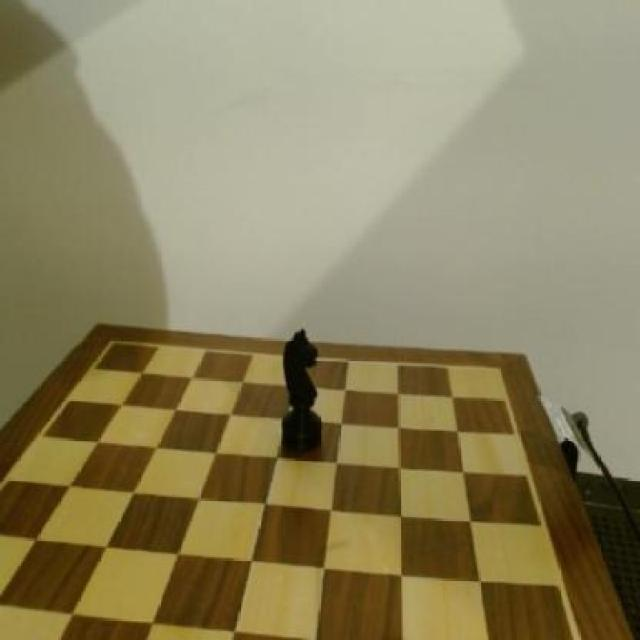black-king: (278, 323, 330, 463)
